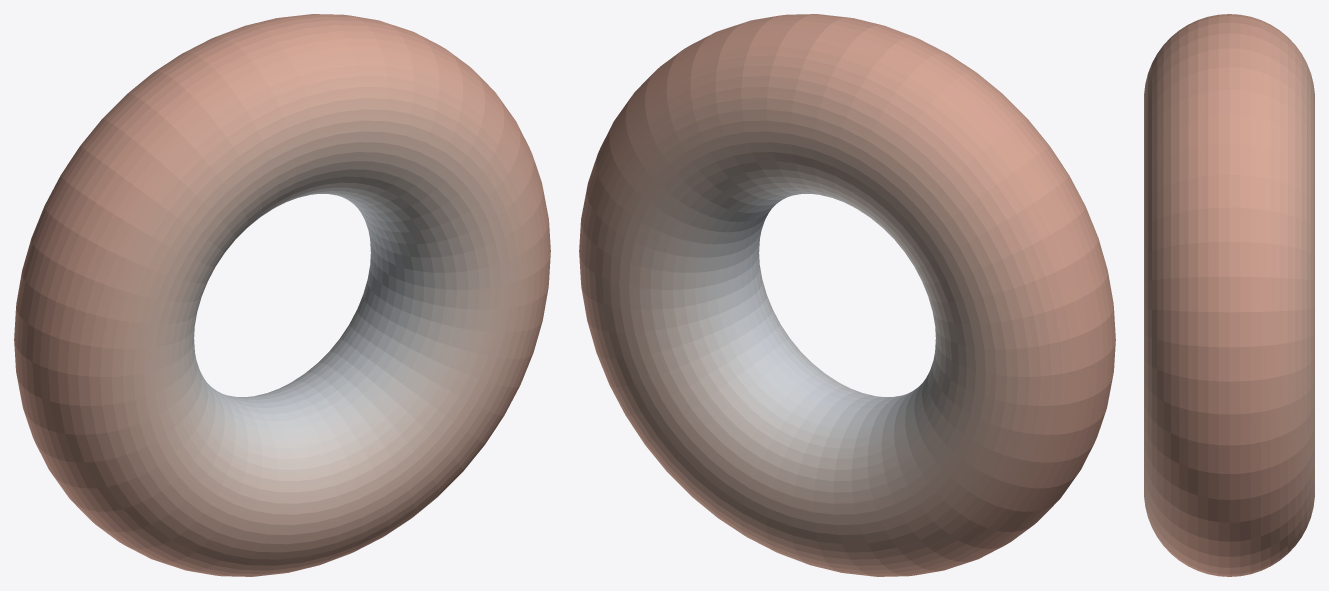
3 renders of one model, left to right at view 1: azimuth 30°, elevation 25°; view 2: azimuth 150°, elevation 25°; view 3: azimuth 270°, elevation 25°, orthographic. The views are drawn at different scales.
Parts seen in each view (by area): view 1: world; view 2: world; view 3: world.
Part boxes in pixels (x1,y1,x2,y2): world: (14,14,550,576); world: (579,14,1115,576); world: (1144,14,1314,576).
Size of the model in its own units: 25.87 by 25.82 by 7.85.
